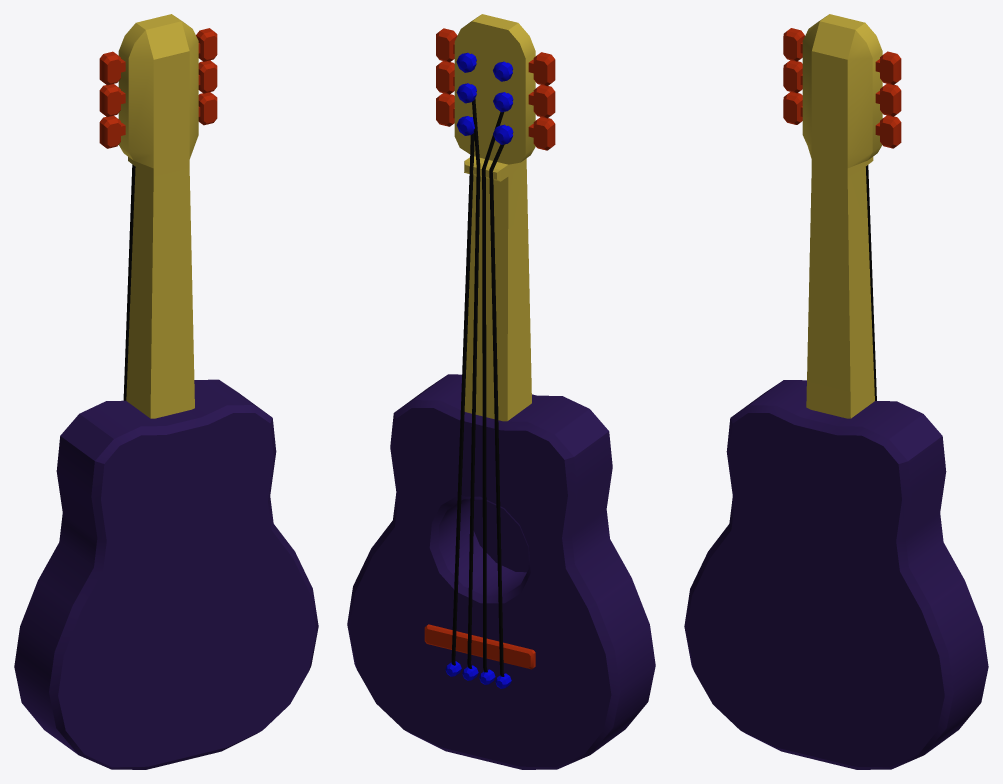
The model's file is Guitar.FBX.
3 renders of one model, left to right at view 1: azimuth 30°, elevation 25°; view 2: azimuth 150°, elevation 25°; view 3: azimuth 330°, elevation 25°, orthographic.
Parts seen in each view (by area): view 1: Guitar; view 2: Guitar; view 3: Guitar.
Boxes of the visible parts, x1,y1,x2,y2 form: Guitar: (14, 14, 318, 769); Guitar: (347, 14, 655, 769); Guitar: (684, 14, 988, 769).
Bounding box in the file's own units: 471 × 145 × 1203.
